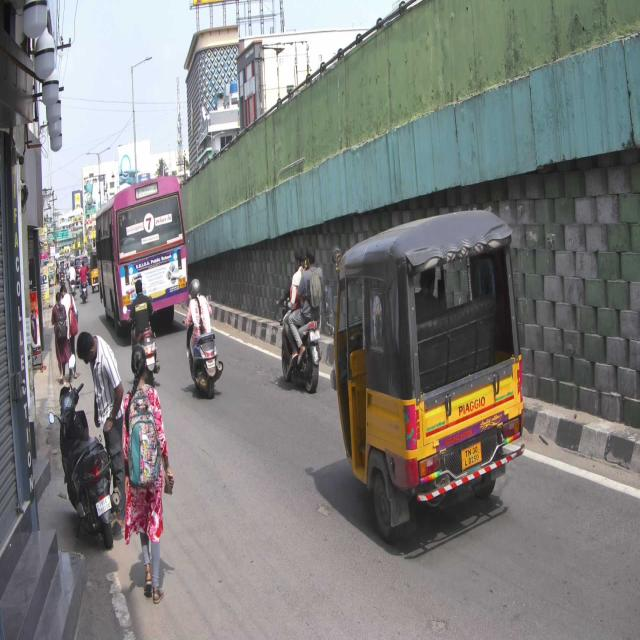single_rider: (183, 277, 225, 399)
triple_rider: (274, 246, 324, 392)
